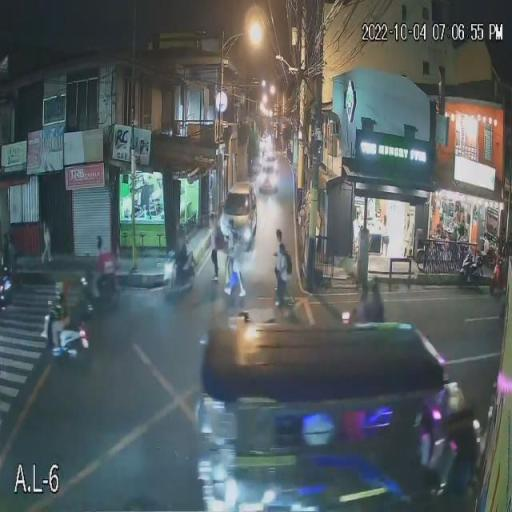helmet: (94, 236, 105, 251), (54, 296, 66, 306), (175, 239, 185, 249)
motorcycle: (42, 310, 92, 365), (82, 270, 119, 313), (162, 251, 192, 299), (459, 250, 490, 284)
rider: (42, 284, 77, 350), (88, 235, 118, 297), (358, 278, 384, 324), (168, 234, 193, 280)
